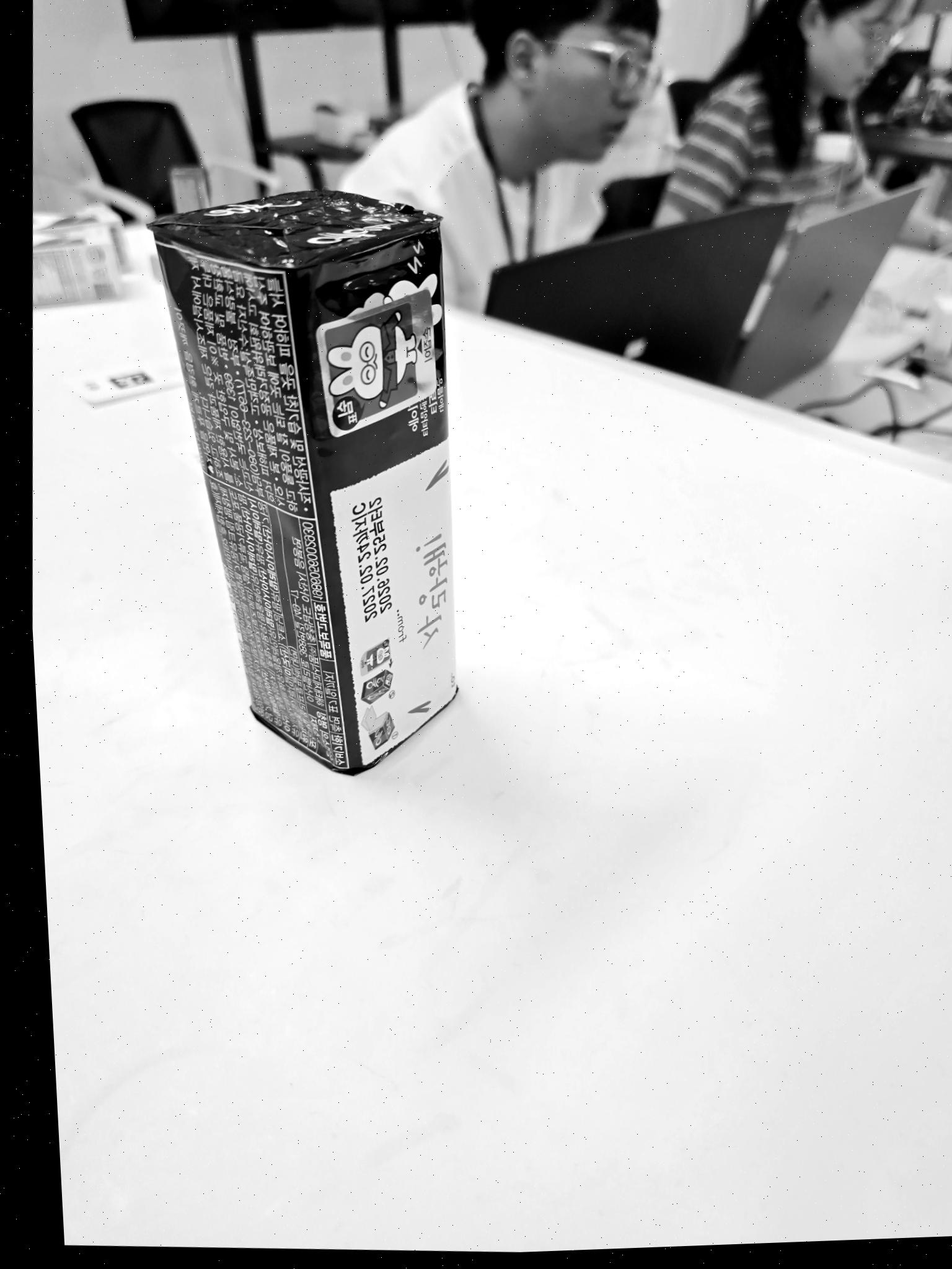cracker_ace: (152, 190, 457, 772)
